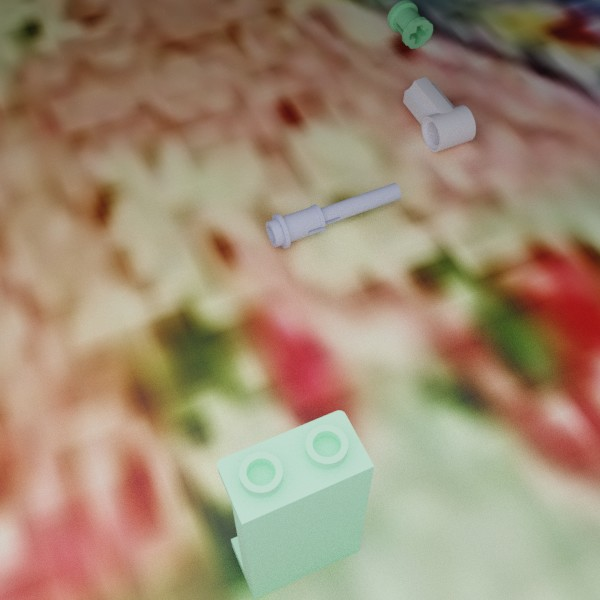lego: (216, 410, 374, 600), (265, 182, 401, 248), (403, 77, 475, 152), (387, 0, 433, 48)
